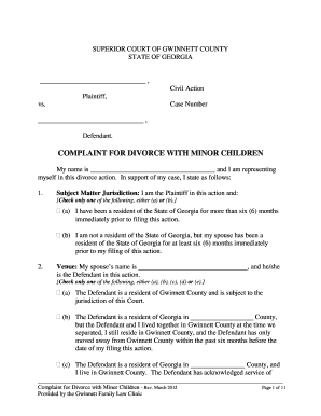checkbox: (55, 361, 61, 369), (55, 207, 61, 214), (55, 232, 61, 239), (55, 289, 61, 296), (55, 313, 61, 320)
textline: (89, 164, 217, 175), (38, 75, 148, 86), (36, 114, 145, 125), (138, 262, 250, 272), (189, 313, 255, 321), (190, 361, 246, 370)
